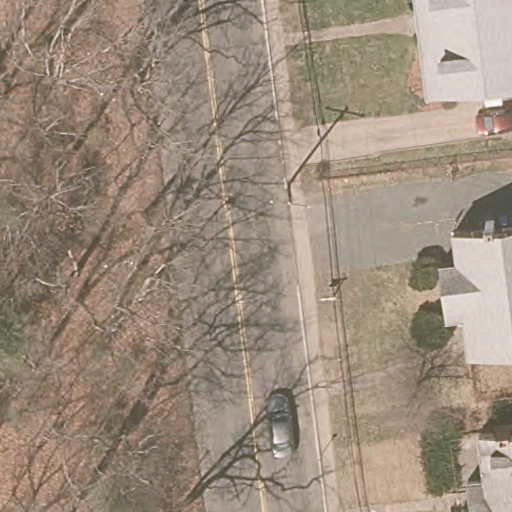DT: (269, 177, 311, 209)
